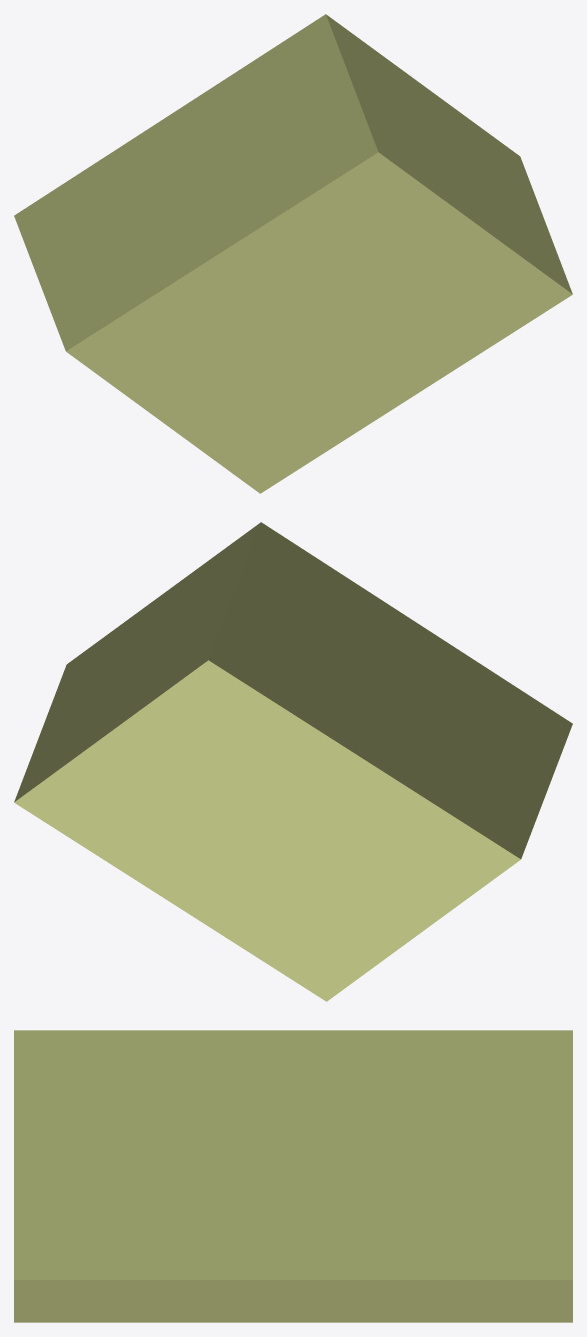
3 views of the same model, one above another, from view 1: azimuth 30°, elevation 25°; view 2: azimuth 150°, elevation 25°; view 3: azimuth 270°, elevation 25° (orthographic). The views are drawn at different scales.
Visible parts, largest first — view 1: 0_1_3_2_2_2_2_0_3_0_2; view 2: 0_1_3_2_2_2_2_0_3_0_2; view 3: 0_1_3_2_2_2_2_0_3_0_2.
Part boxes in pixels (box(x1,y1,x2,y2)): 0_1_3_2_2_2_2_0_3_0_2: box(14, 14, 572, 493); 0_1_3_2_2_2_2_0_3_0_2: box(14, 522, 572, 1001); 0_1_3_2_2_2_2_0_3_0_2: box(14, 1030, 572, 1322).
Size of the model in its own units: 9.74 by 7 by 9.
